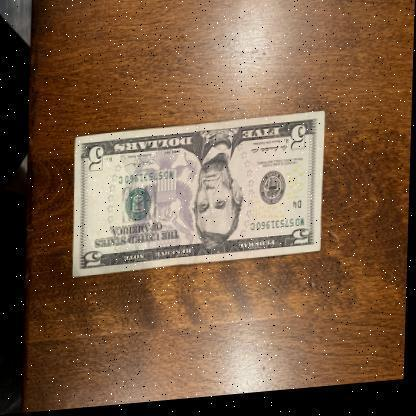five-front: (74, 116, 326, 280)
